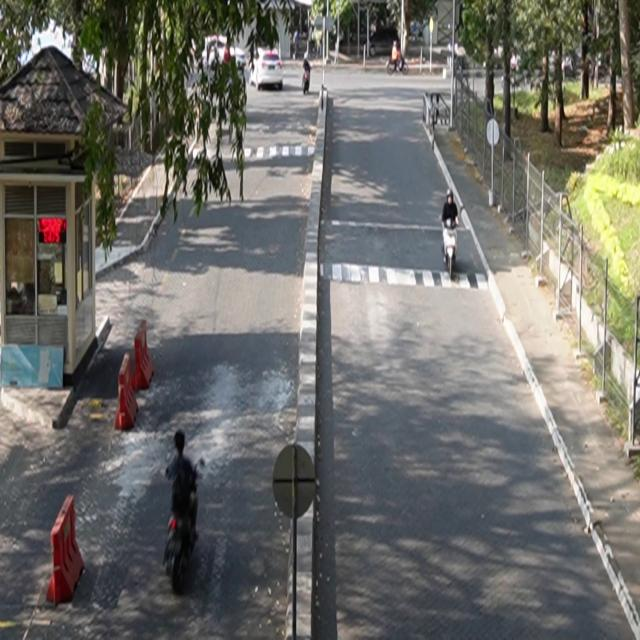car: (250, 48, 284, 92)
